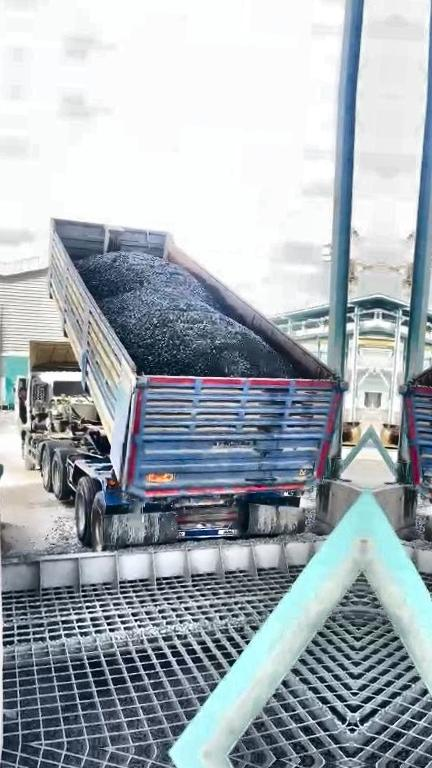gravel: (77, 252, 296, 377)
